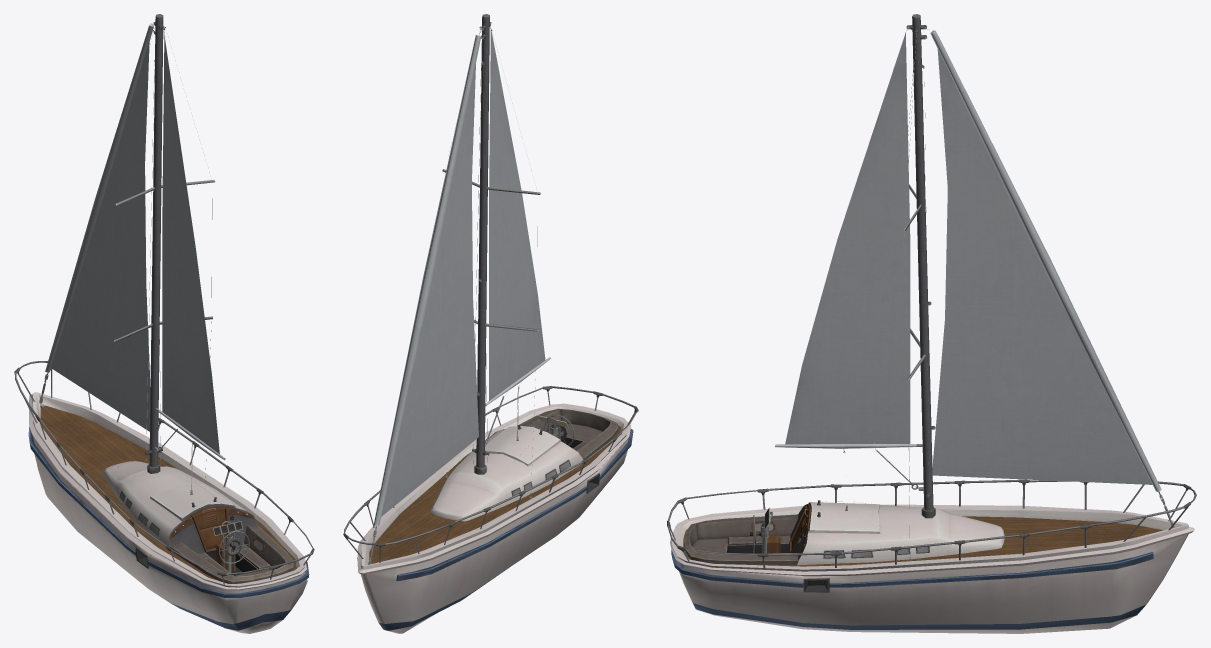
Rendered from Sailboat_-_Sails_Up.glb.
3 views of the same model, side by side, from view 1: azimuth 30°, elevation 25°; view 2: azimuth 150°, elevation 25°; view 3: azimuth 270°, elevation 25° (orthographic). The views are drawn at different scales.
Visible parts, largest first — view 1: Sailboat_Sails_Up__LOD4; view 2: Sailboat_Sails_Up__LOD4; view 3: Sailboat_Sails_Up__LOD4.
Boxes of the visible parts, x1=… form: Sailboat_Sails_Up__LOD4: x1=14, y1=14, x2=314, y2=633; Sailboat_Sails_Up__LOD4: x1=343, y1=14, x2=638, y2=633; Sailboat_Sails_Up__LOD4: x1=667, y1=14, x2=1196, y2=633.
Bounding box in the file's own units: 4.07 × 16.88 × 13.17.
Materials: 1 (1 with a texture image).
